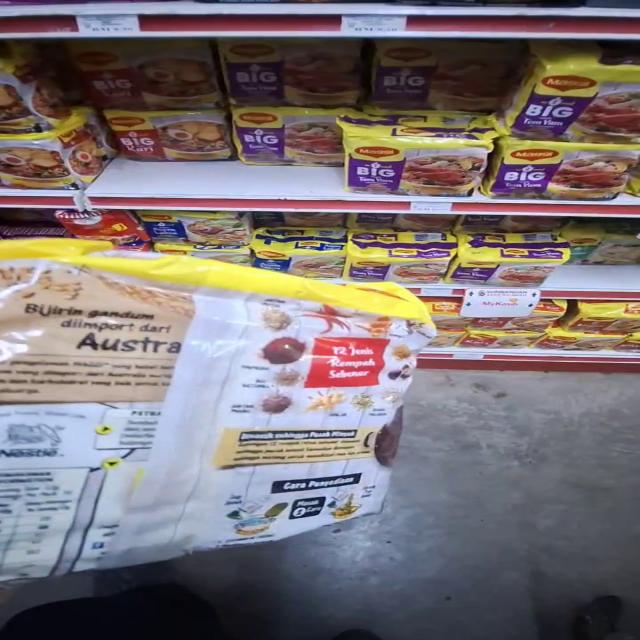Maggi: (16, 247, 397, 563)
